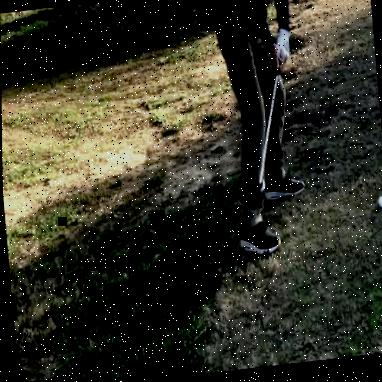ClubHead: (376, 199, 382, 211)
GolfBall: (252, 171, 265, 203)
